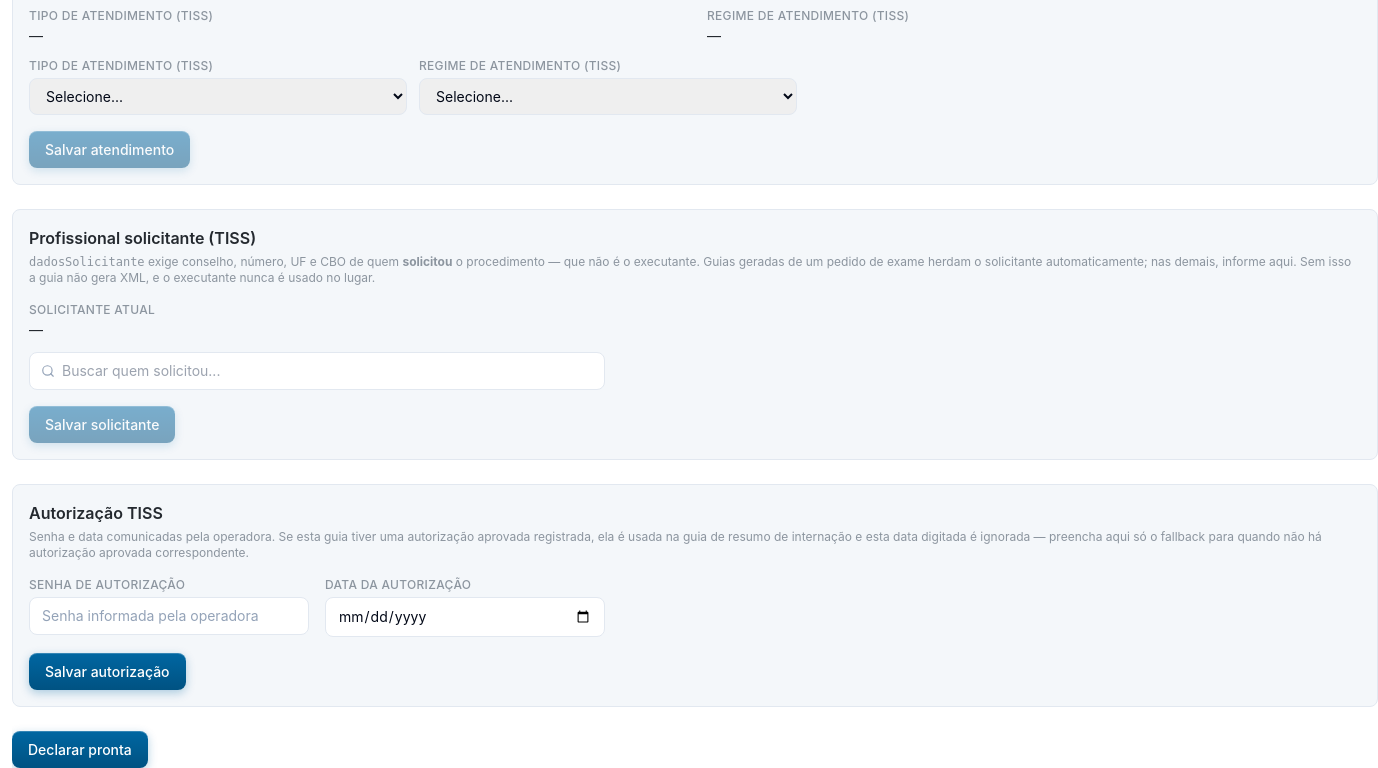
Test: GuideDetailPage — authorization_date › surfaces the backend guard message on a rejected PATCH (400)
The image size is (1378, 768).
(page scrolled)
Type "AUTH-3" into the field labelled "Senha de autorização" at point(169, 616), box 29,597 -> 309,635
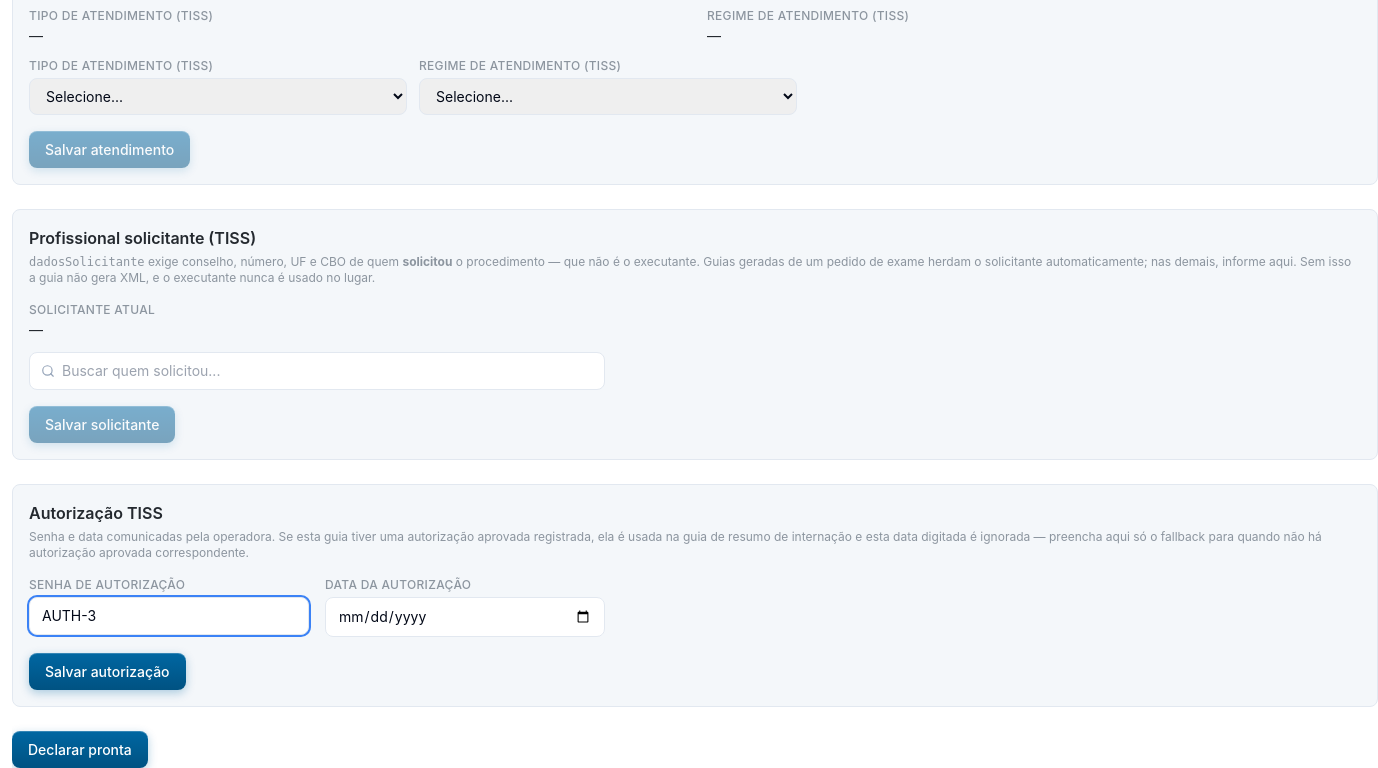
Click the button "Salvar autorização" at point(107, 672), box 29,653 -> 186,690
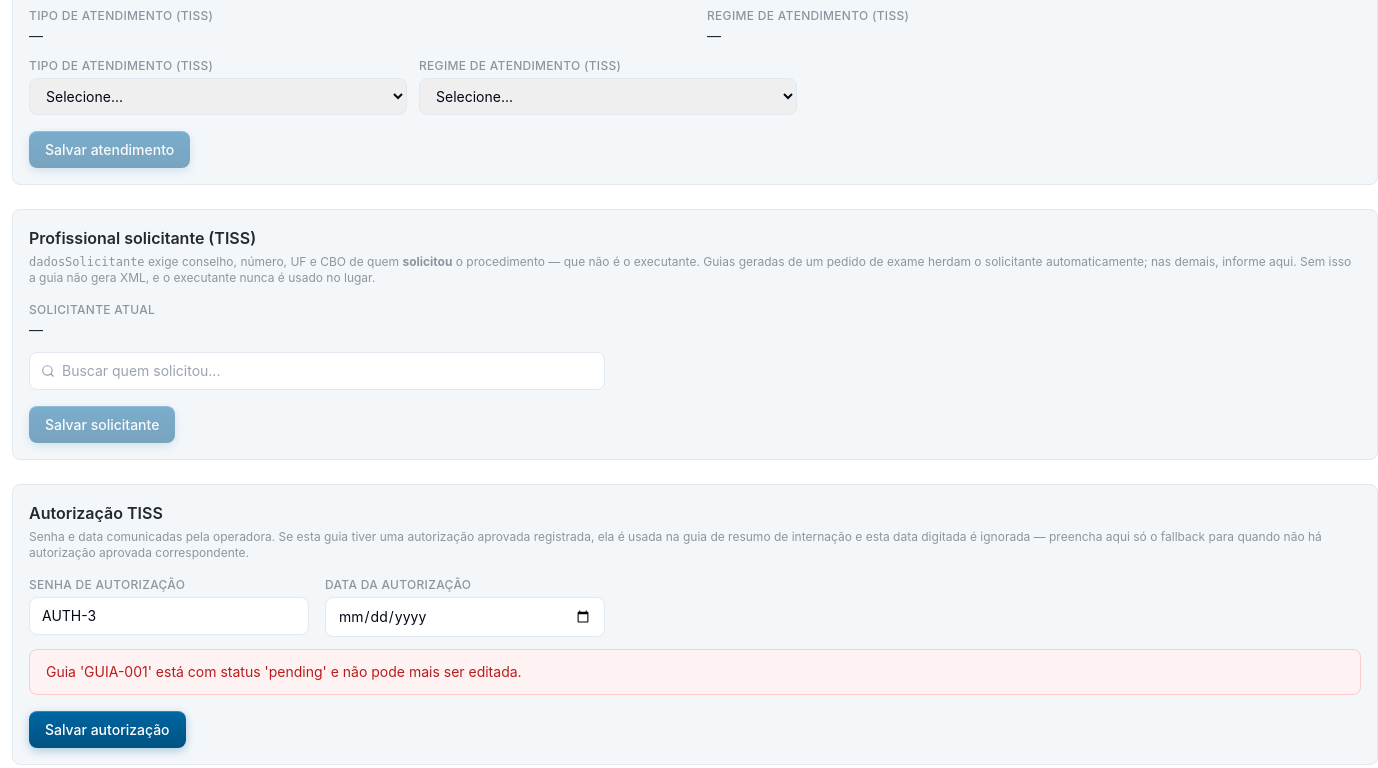
Now the text "não pode mais ser editada" is shown, box 46,663 -> 522,680
